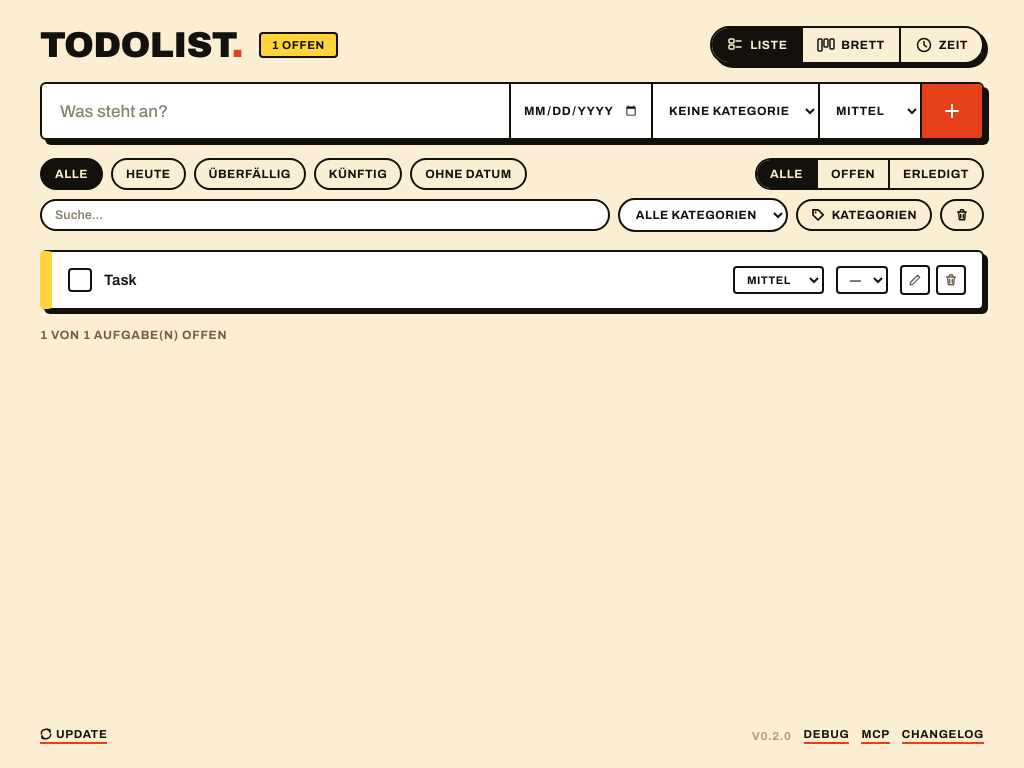
Test: App › opens the detail modal from the pencil button
The width and height of the screenshot is (1024, 768).
Check: the text "Task" is shown, box x1=104 y1=272 x2=137 y2=288
Click the button named "Aufgabe bearbeiten".
click(915, 280)  # box x1=900 y1=265 x2=930 y2=295
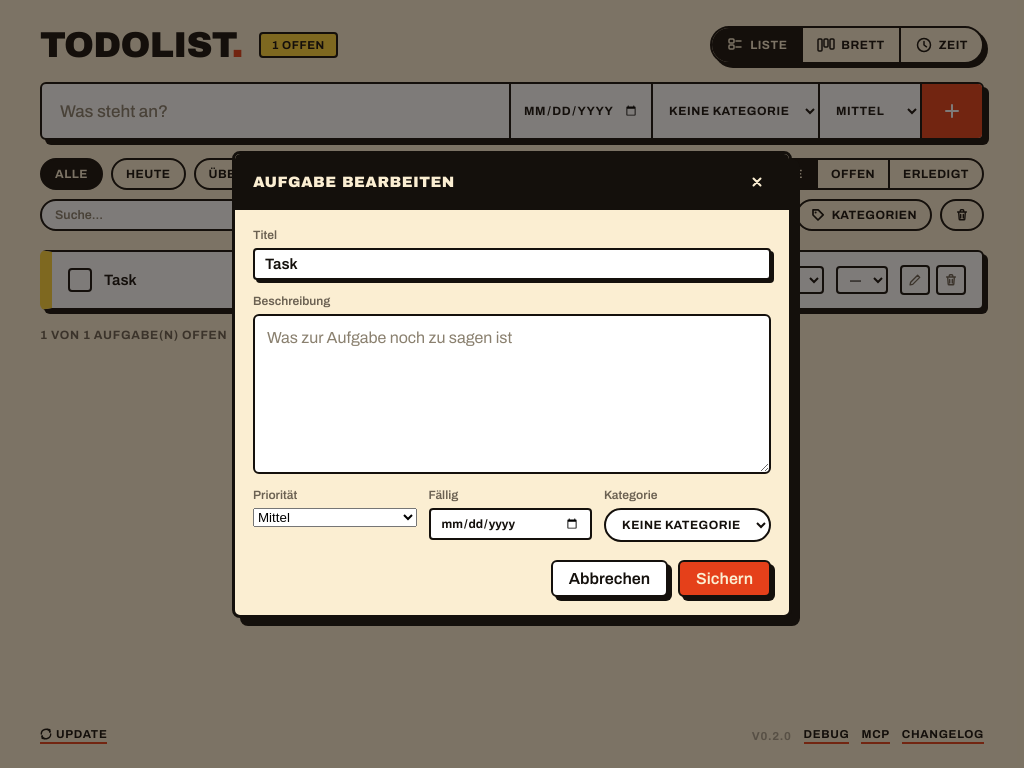
Check: the text box labelled "Beschreibung" is shown, box x1=253 y1=314 x2=771 y2=474
